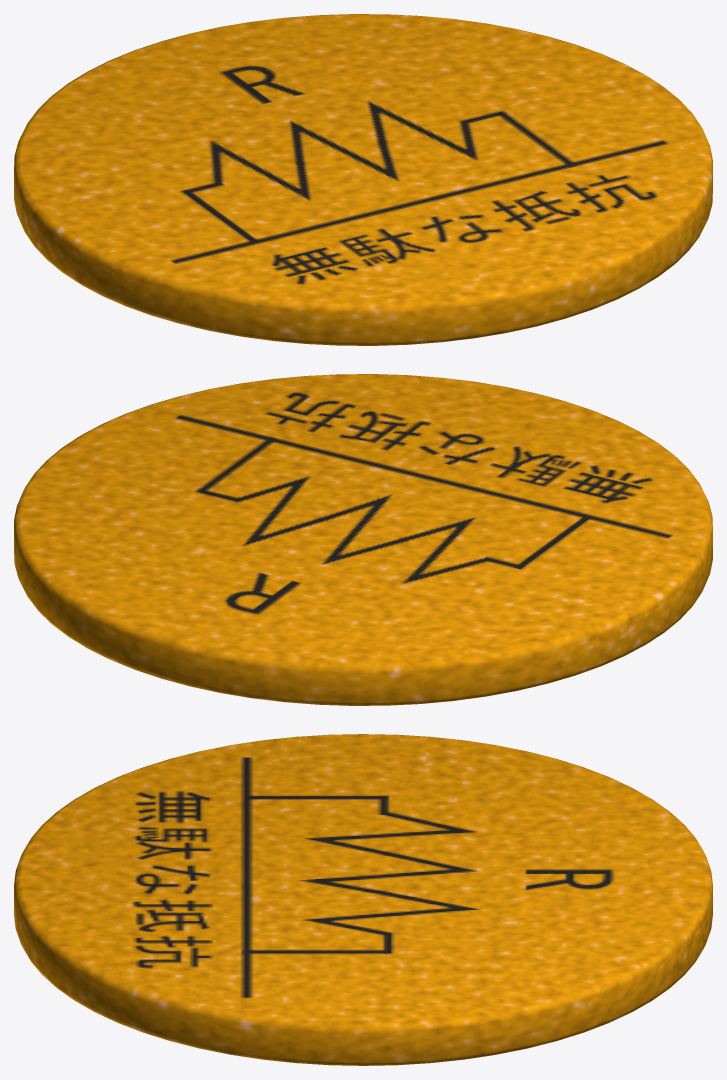
The model's file is 無駄な抵抗.fbx.
The picture shows the model from 3 angles, top to bottom: view 1: azimuth 30°, elevation 25°; view 2: azimuth 150°, elevation 25°; view 3: azimuth 270°, elevation 25°; orthographic projection.
Visible parts, largest first — view 1: 円柱; view 2: 円柱; view 3: 円柱.
Boxes of the visible parts, x1,y1,x2,y2 form: 円柱: (14,14,712,345); 円柱: (14,374,712,705); 円柱: (14,734,712,1065).
Size of the model in its own units: 15 by 1 by 15.
1 material, 1 textured.
